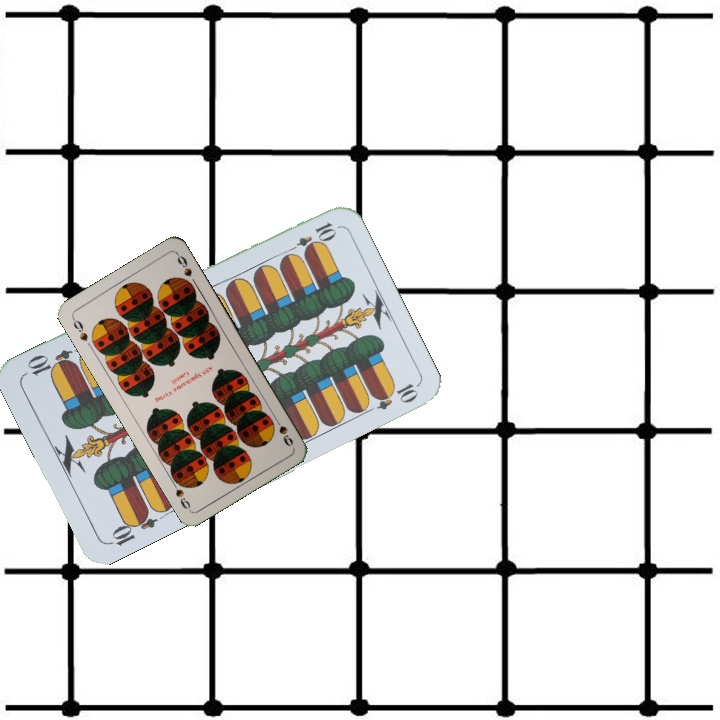E10: (104, 506, 159, 550), (283, 218, 339, 257)
S9: (270, 412, 296, 449), (68, 313, 91, 344)
